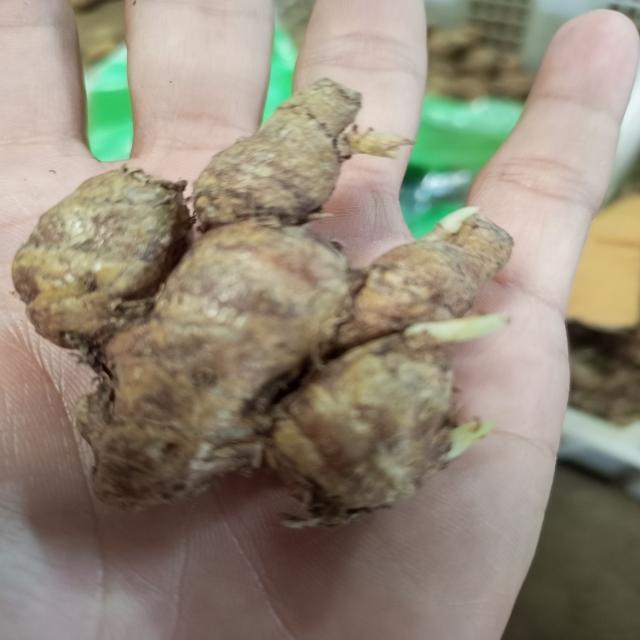ginger: (30, 83, 478, 507)
